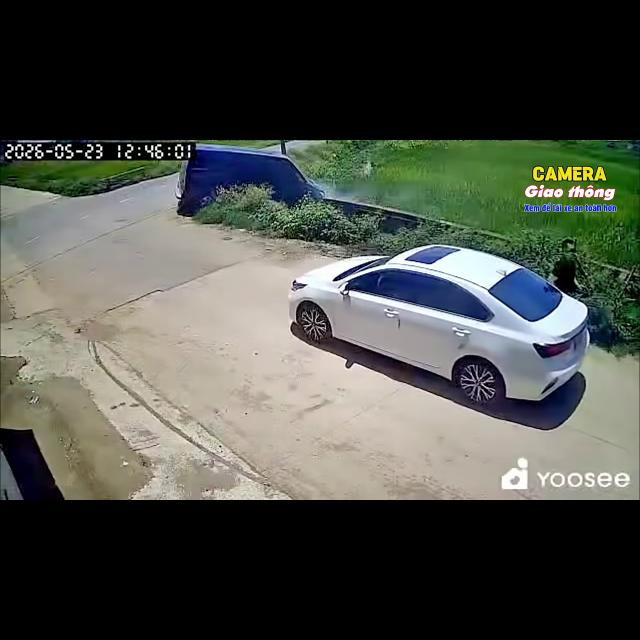car: (289, 245, 589, 404), (175, 144, 324, 216)
